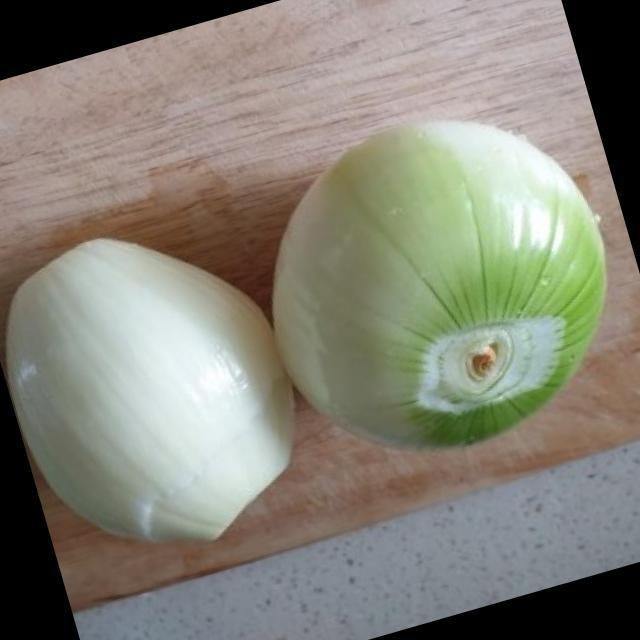Onion: (272, 121, 609, 453), (0, 238, 296, 540)
